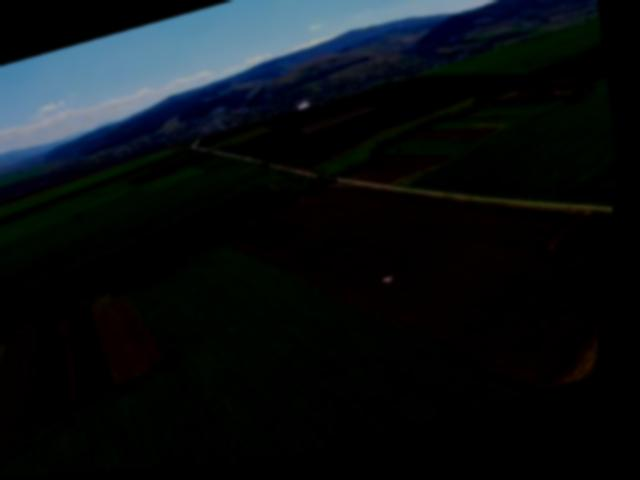uav: (382, 272, 407, 297)
